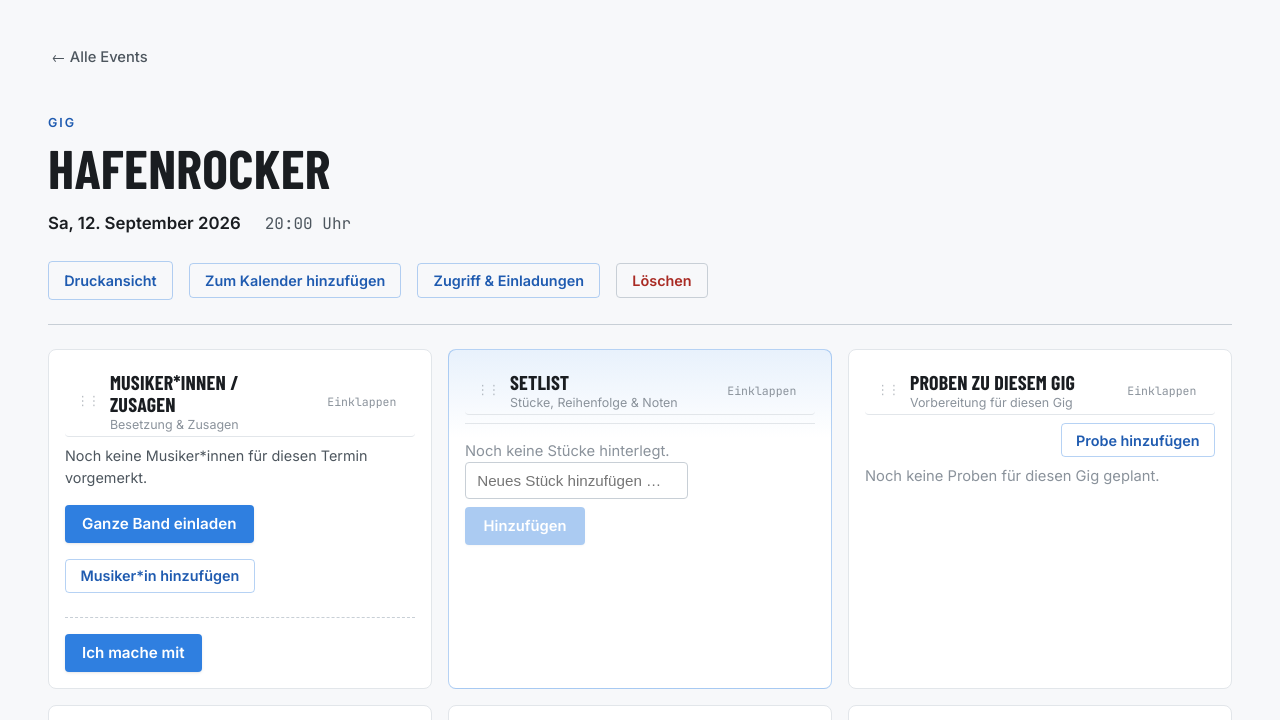
EventDetailComponent › should assign an existing rehearsal to the concert
Click the button with class "rehearsals__add" at [1138, 440], box x1=1061 y1=423 x2=1215 y2=457
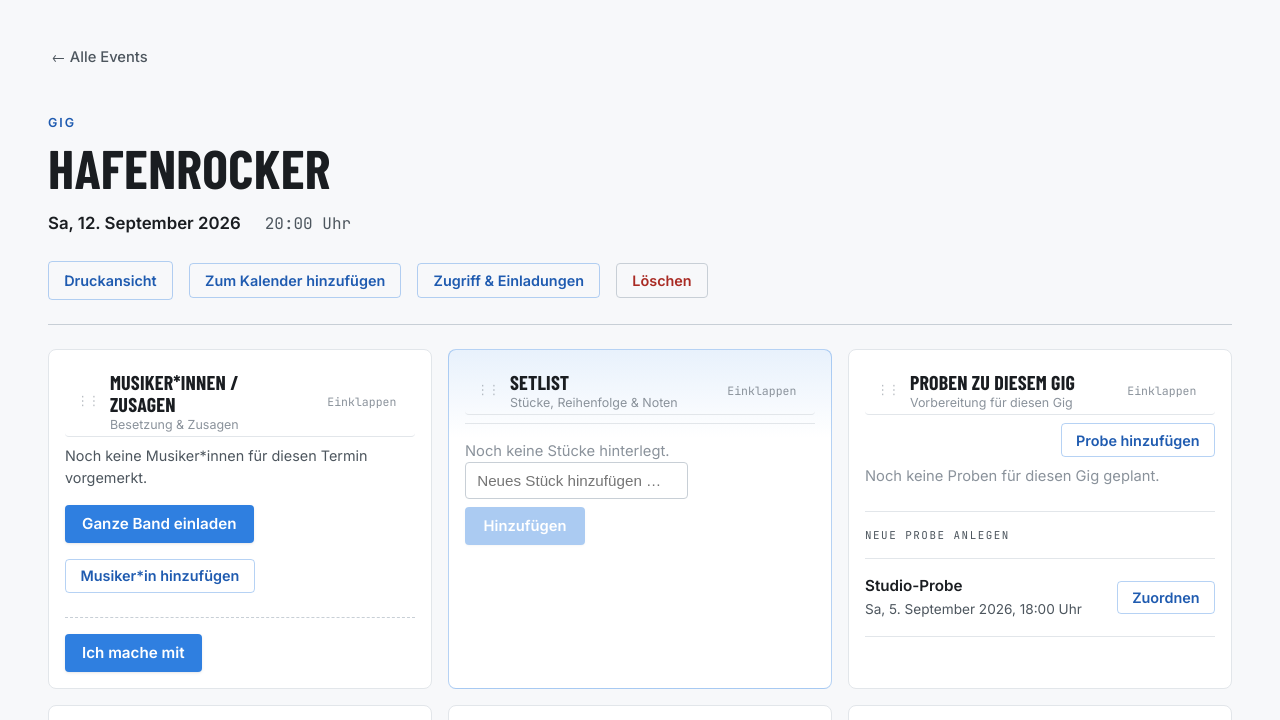
Click the button "Zuordnen" at [1166, 597], box x1=1117 y1=580 x2=1215 y2=614
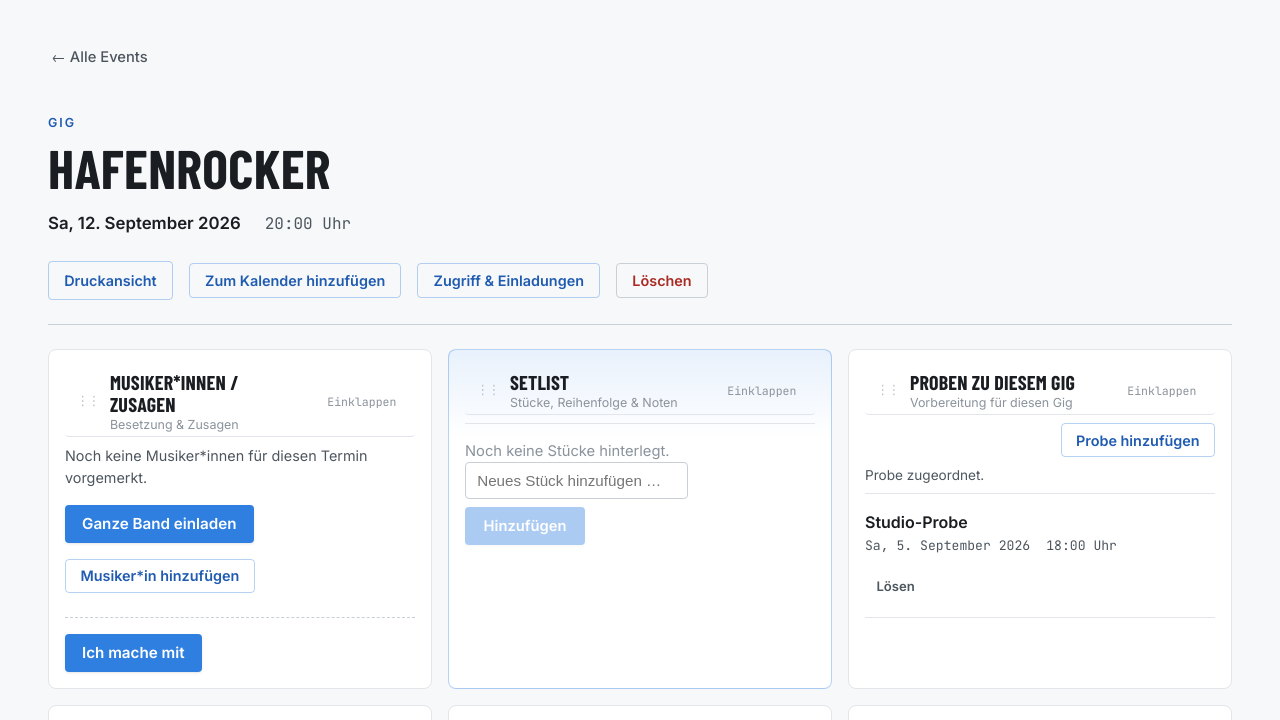
Check: the text "Studio-Probe" is shown, box x1=865 y1=510 x2=968 y2=534
Check: the text "Probe zugeordnet." is shown, box x1=865 y1=467 x2=984 y2=483
